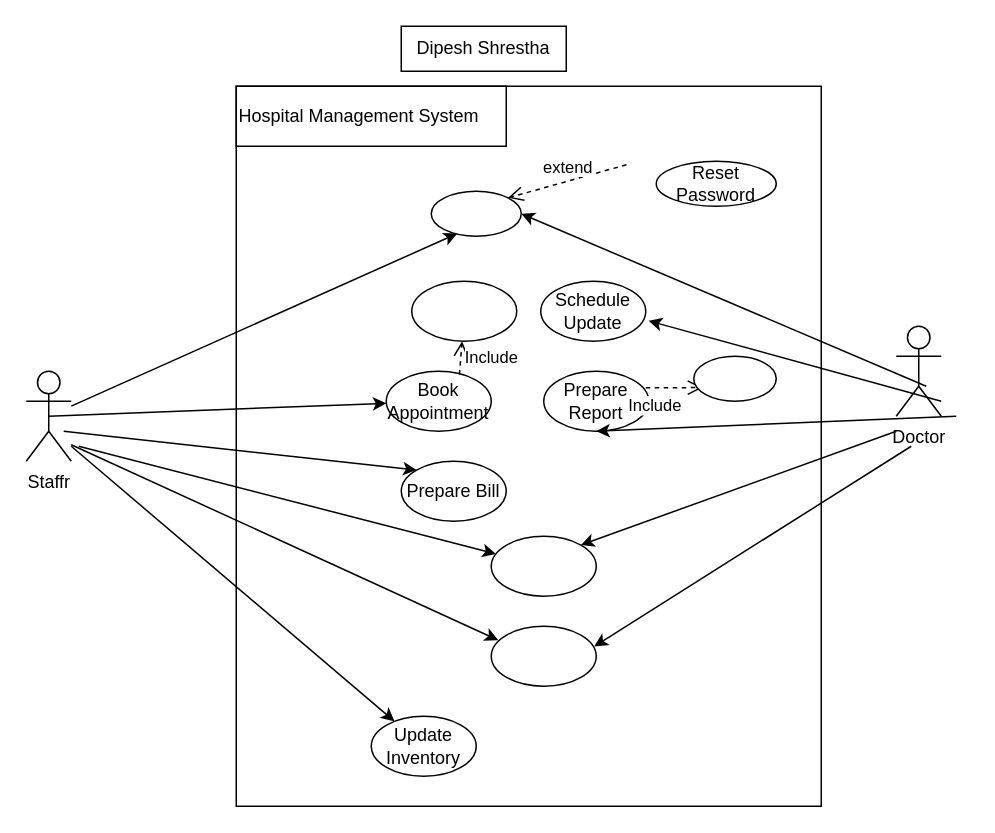
This 995x833 diagram has some shape labels left out. The shapes that lost their labels are listed below. From the top down, each one's box as (x1, y1, x2, y2) in pixels, then its label:
(430, 190, 521, 236): Login
(410, 280, 517, 341): Check Availability
(692, 355, 776, 401): Save Report
(490, 535, 596, 596): View Report
(490, 625, 596, 686): View Inventory
